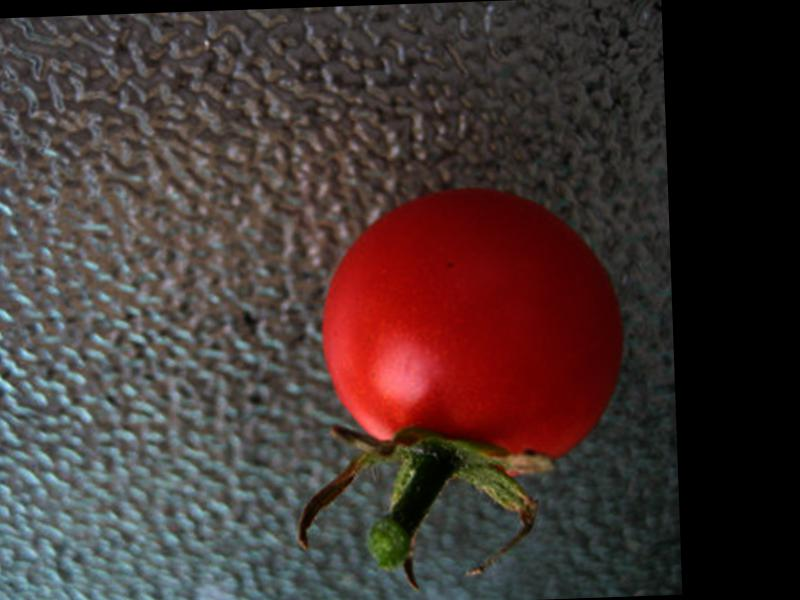Tomato: (313, 181, 624, 468)
